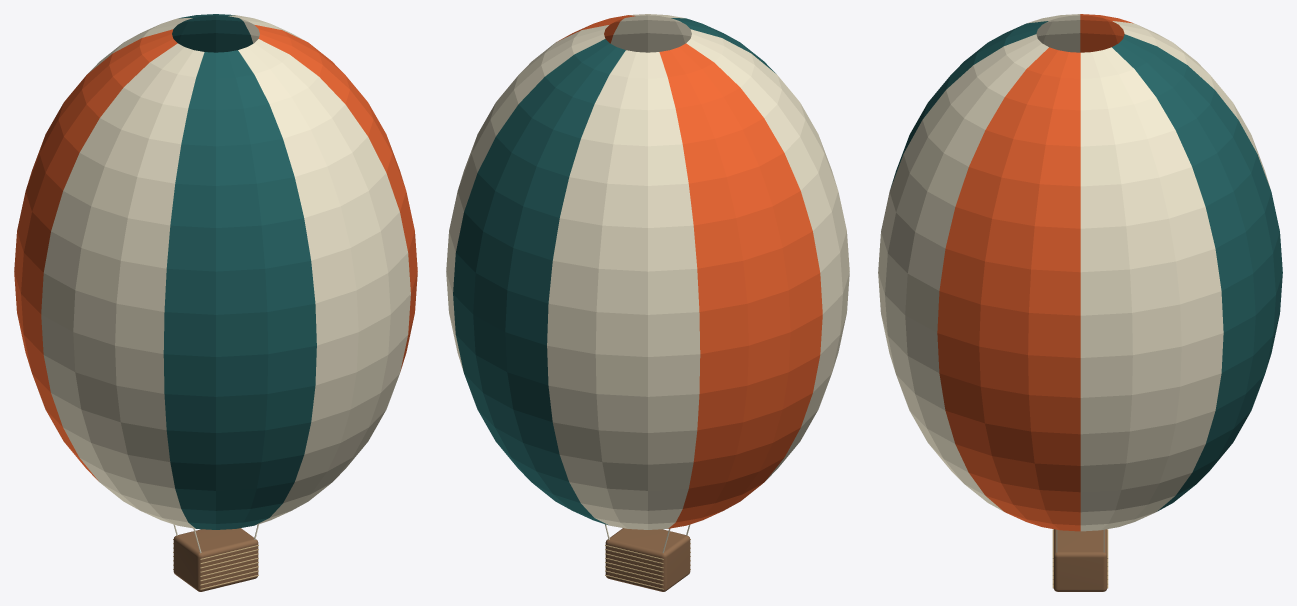
File: balloon.glb
The picture shows the model from 3 angles, left to right: view 1: azimuth 30°, elevation 25°; view 2: azimuth 150°, elevation 25°; view 3: azimuth 270°, elevation 25°; orthographic projection.
Parts seen in each view (by area): view 1: white, teal, orange, brown, sand; view 2: white, orange, teal, brown, sand; view 3: white, orange, teal, brown.
Part boxes in pixels (left/top/right/bottom): white: left=41, top=15, right=410, bottom=553; teal: left=163, top=14, right=316, bottom=529; orange: left=14, top=25, right=417, bottom=481; brown: left=173, top=528, right=258, bottom=591; sand: left=173, top=539, right=258, bottom=589; white: left=446, top=14, right=849, bottom=553; orange: left=559, top=15, right=822, bottom=528; teal: left=453, top=18, right=775, bottom=525; brown: left=605, top=528, right=690, bottom=591; sand: left=605, top=539, right=690, bottom=589; white: left=878, top=14, right=1270, bottom=552; orange: left=937, top=14, right=1133, bottom=531; teal: left=890, top=21, right=1282, bottom=511; brown: left=1053, top=529, right=1107, bottom=591.
Bounding box in the file's own units: 12 × 17.81 × 12.
